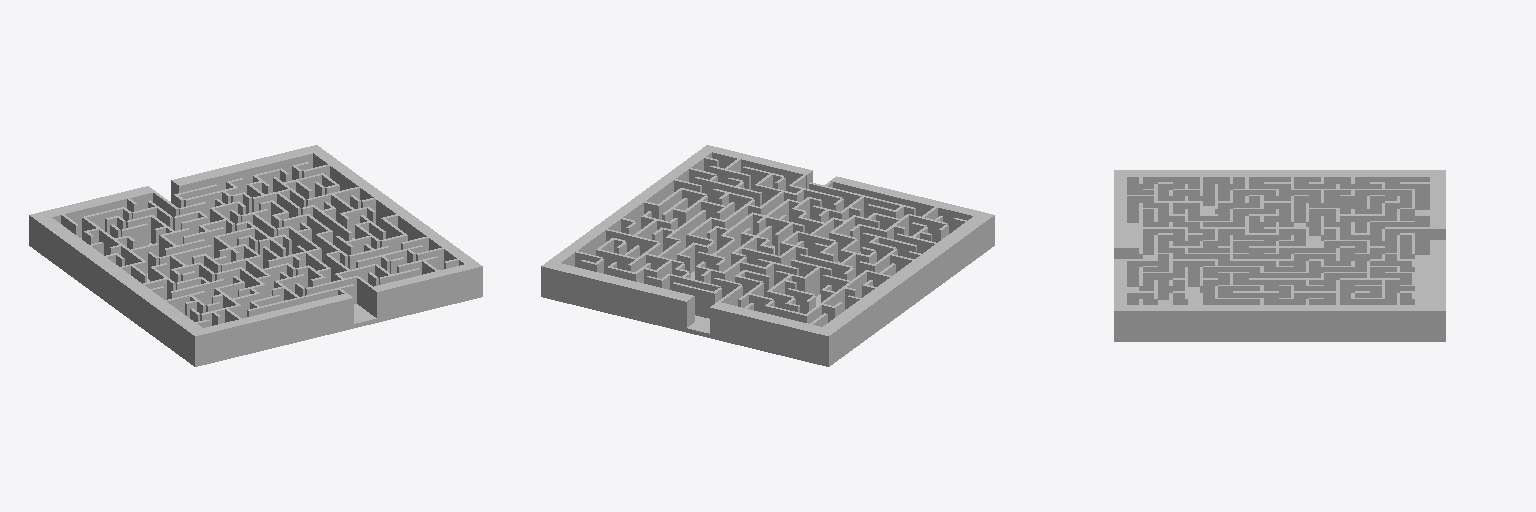
Rendered from Maze_complicated.obj.
The picture shows the model from 3 angles: view 1: azimuth 30°, elevation 25°; view 2: azimuth 150°, elevation 25°; view 3: azimuth 270°, elevation 25°; orthographic projection.
Visible parts, largest first — view 1: Maze_Plane; view 2: Maze_Plane; view 3: Maze_Plane.
Part boxes in pixels (bbox=[...]): Maze_Plane: bbox=[29, 145, 482, 366]; Maze_Plane: bbox=[541, 145, 994, 366]; Maze_Plane: bbox=[1114, 170, 1445, 341].
Bounding box in the file's own units: 40 × 4.09 × 40.